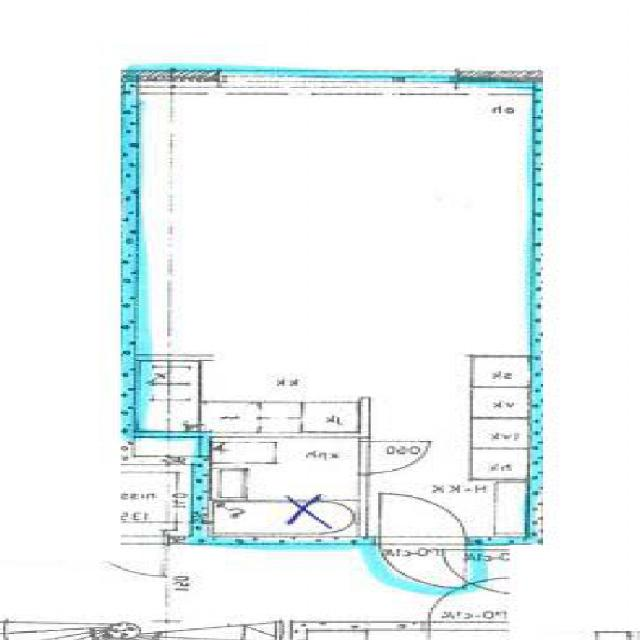door: (382, 490, 466, 544), (382, 536, 466, 589), (360, 441, 431, 473)
